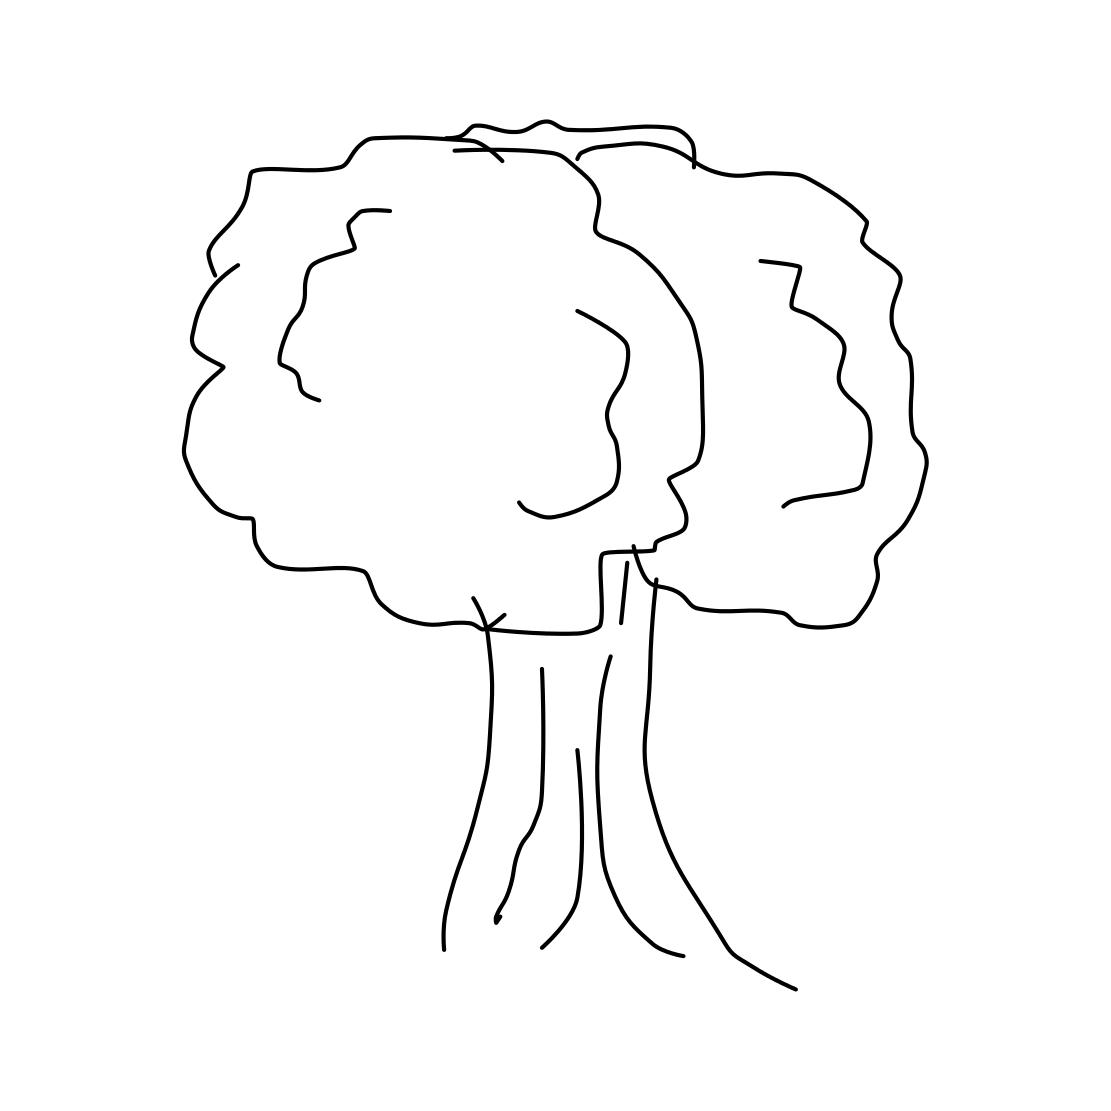Tree: (162, 70, 956, 1003)
